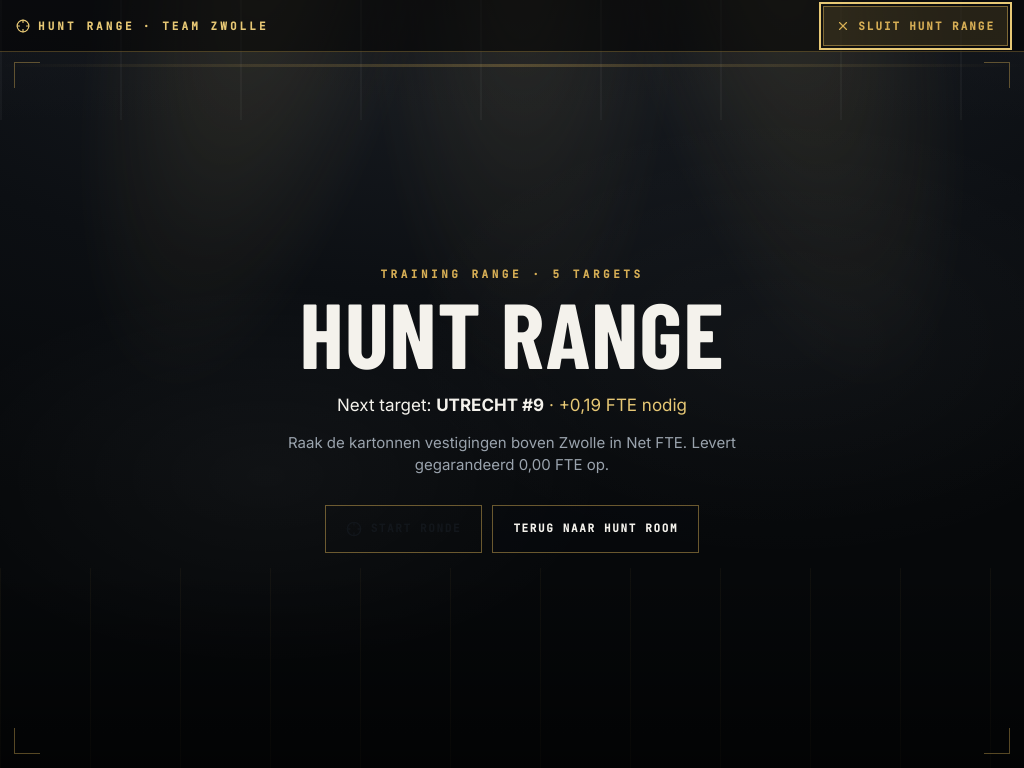
Test: HuntRange › missing everything: 0 / 5 — and still 0,00
Click the button "Start ronde".
click(404, 529)  # box x1=325 y1=505 x2=482 y2=553
Wait 20000 ms
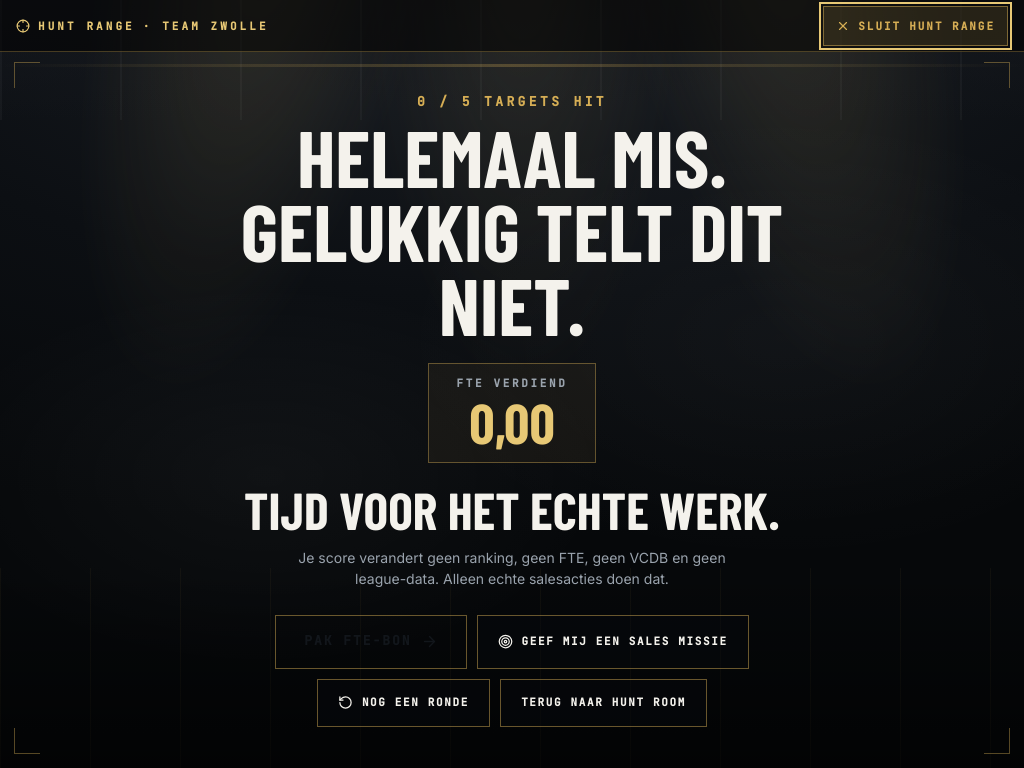
Expected: the text with test id "range-fte-earned" reads "0,00", x1=469 y1=388 x2=555 y2=455
Now the element with test id "range-result" shows "0 / 5 targets hit", box x1=241 y1=93 x2=783 y2=727
